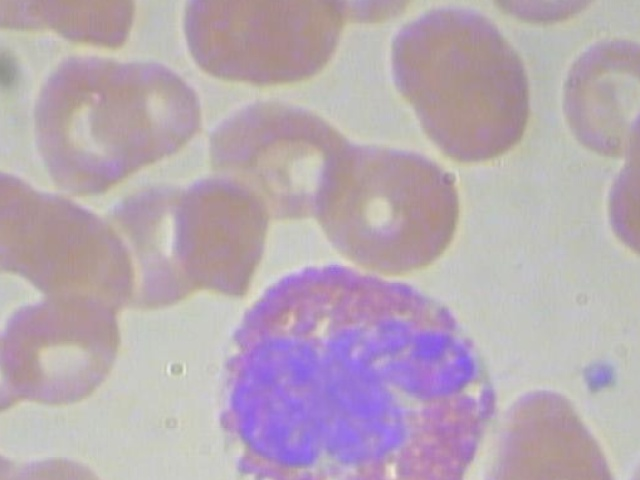Platelets: (573, 350, 619, 399)
RBC: (22, 50, 156, 204), (325, 138, 471, 274), (398, 30, 544, 166), (0, 295, 135, 416), (88, 41, 208, 177), (539, 28, 640, 164)
WBC: (203, 249, 512, 480)
